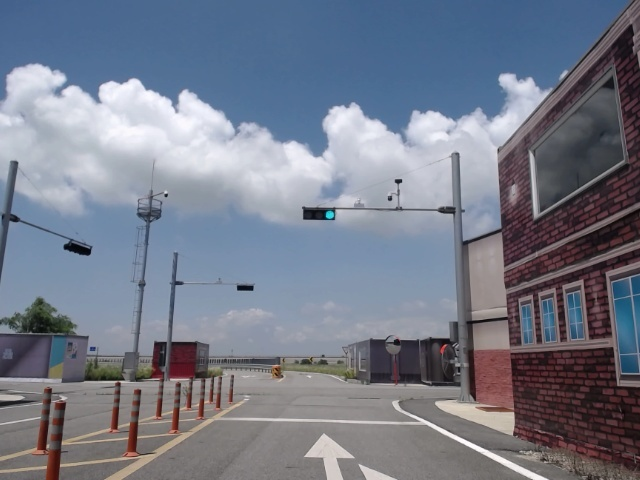green_3: (303, 209, 335, 219)
